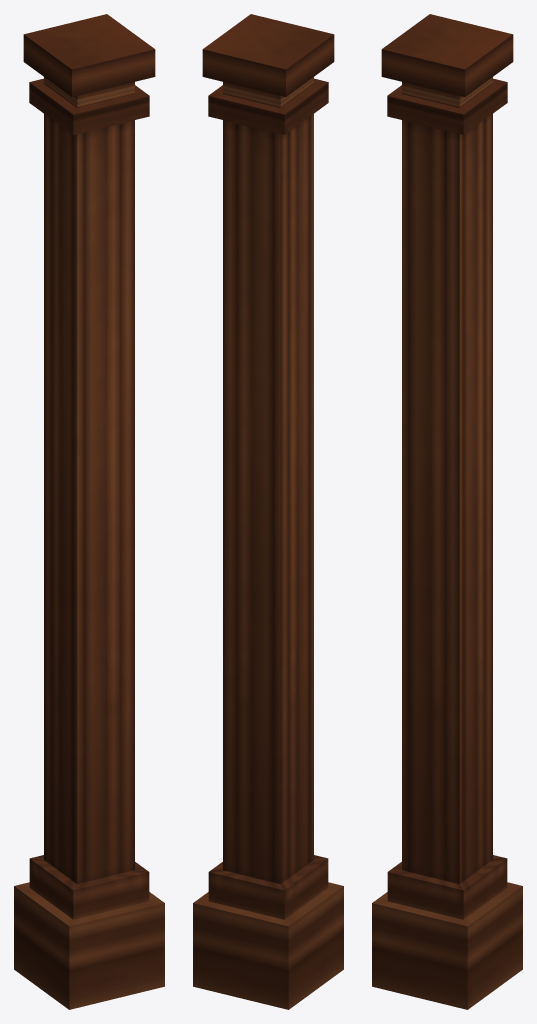
File: mansion_fence_post.fbx
3 renders of one model, left to right at view 1: azimuth 30°, elevation 25°; view 2: azimuth 150°, elevation 25°; view 3: azimuth 330°, elevation 25°, orthographic.
Visible parts, largest first — view 1: fence_post; view 2: fence_post; view 3: fence_post.
Boxes of the visible parts, x1,y1,x2,y2 form: fence_post: (14,14,164,1009); fence_post: (193,14,343,1009); fence_post: (372,14,522,1009).
Bounding box in the file's own units: 10.69 × 100 × 10.69.
